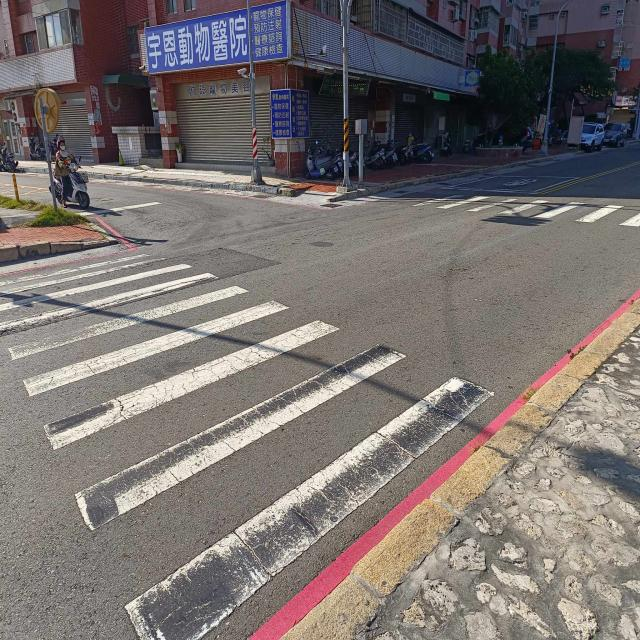person: (55, 138, 74, 207)
zebra crossing: (0, 253, 492, 640), (430, 191, 640, 229)
